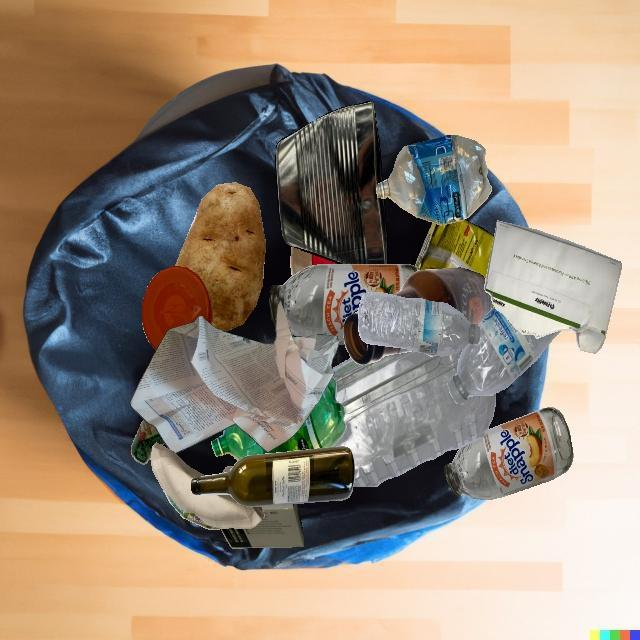biowaste: (175, 182, 266, 332)
cardboard: (221, 504, 304, 548)
glass: (269, 264, 420, 345), (444, 407, 574, 500), (191, 446, 355, 507), (362, 296, 438, 355), (417, 267, 492, 326)
metal: (275, 101, 388, 264)
paper: (130, 301, 339, 454), (484, 220, 621, 354), (151, 442, 265, 530)
plastic: (332, 349, 496, 487), (211, 377, 346, 461), (447, 306, 561, 404), (376, 135, 491, 225), (358, 292, 480, 356), (142, 266, 213, 351), (290, 246, 340, 276), (131, 420, 165, 464)
trash: (414, 219, 494, 279)
